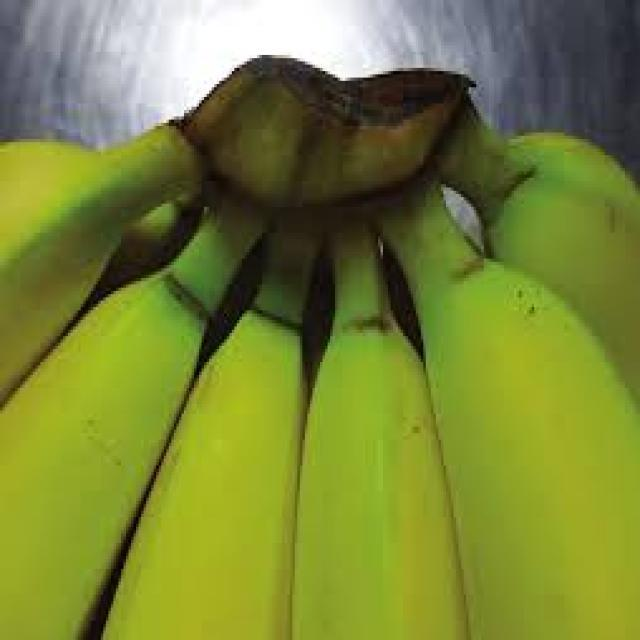Banana: (0, 51, 637, 636)
